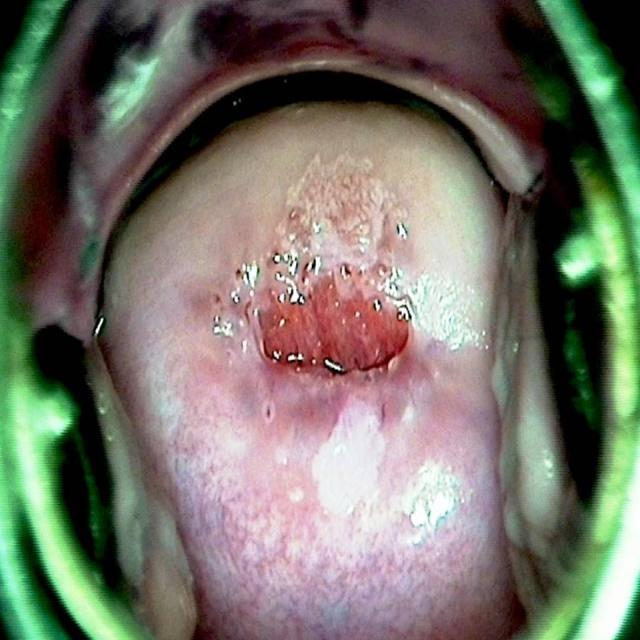cervical_lesion: (204, 135, 499, 565)
